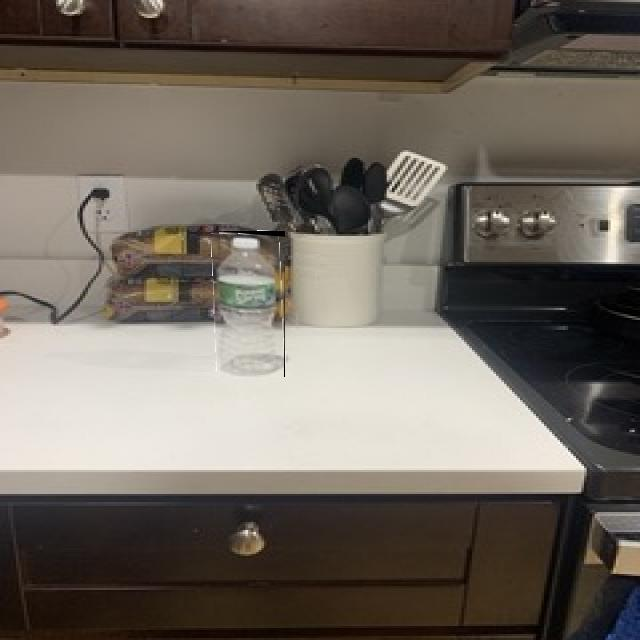water_bottle: (213, 231, 285, 377)
